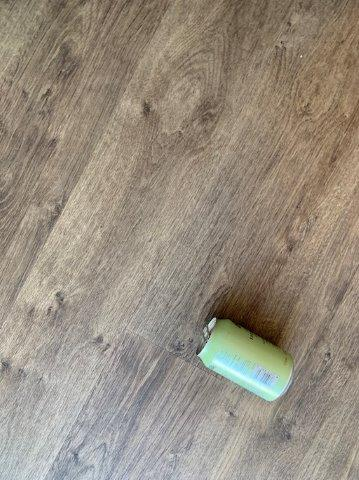kaleng: (198, 318, 293, 400)
